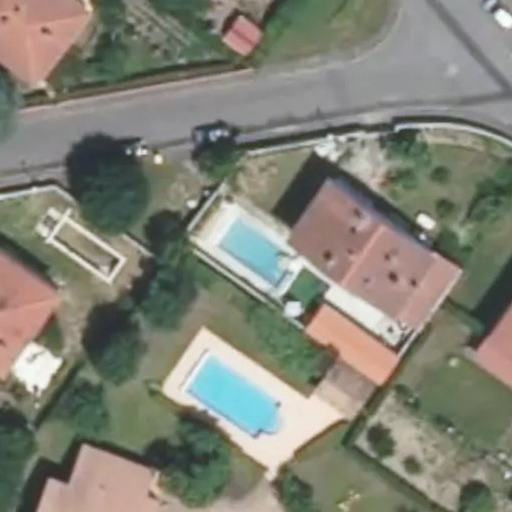pool: (207, 232, 303, 252)
